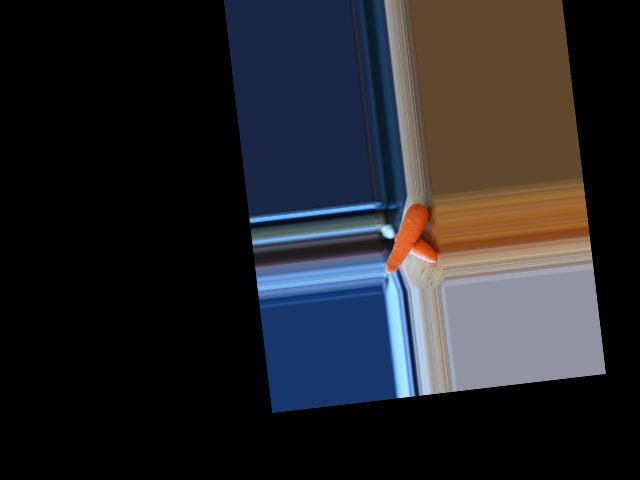carrot: (393, 227, 437, 265)
